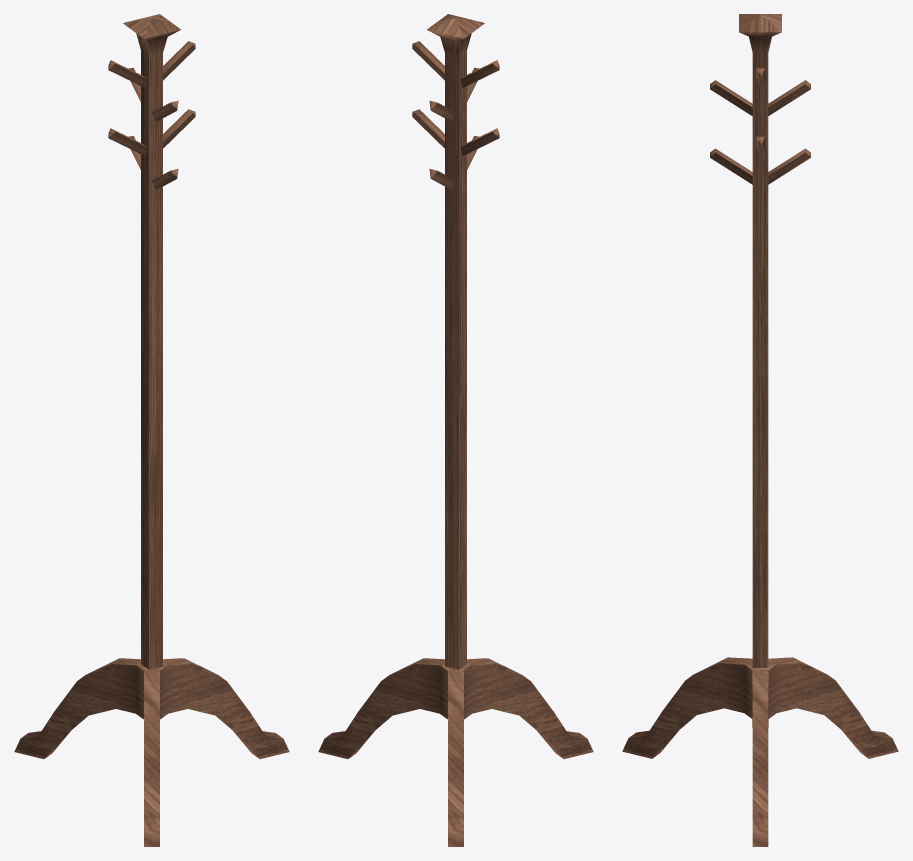
File: shop_tailor_coatRack_empty.fbx
The picture shows the model from 3 angles, left to right: view 1: azimuth 30°, elevation 25°; view 2: azimuth 150°, elevation 25°; view 3: azimuth 270°, elevation 25°; orthographic projection.
Parts seen in each view (by area): view 1: coatRack_pole, coatRack_feet; view 2: coatRack_pole, coatRack_feet; view 3: coatRack_feet, coatRack_pole, coatRack_hook3, coatRack_hook1, coatRack_hook8, coatRack_hook7.
Part boxes in pixels (x1,y1,x2,y2): coatRack_pole: (123,14,180,669); coatRack_feet: (14,658,289,846); coatRack_pole: (427,14,484,669); coatRack_feet: (318,658,593,846); coatRack_feet: (622,657,898,846); coatRack_pole: (739,14,781,667); coatRack_hook3: (768,80,810,115); coatRack_hook1: (710,80,752,115); coatRack_hook8: (710,148,752,184); coatRack_hook7: (768,148,810,184).
Bounding box in the file's own units: 166 × 586 × 192.
Materials: 1 (1 with a texture image).
